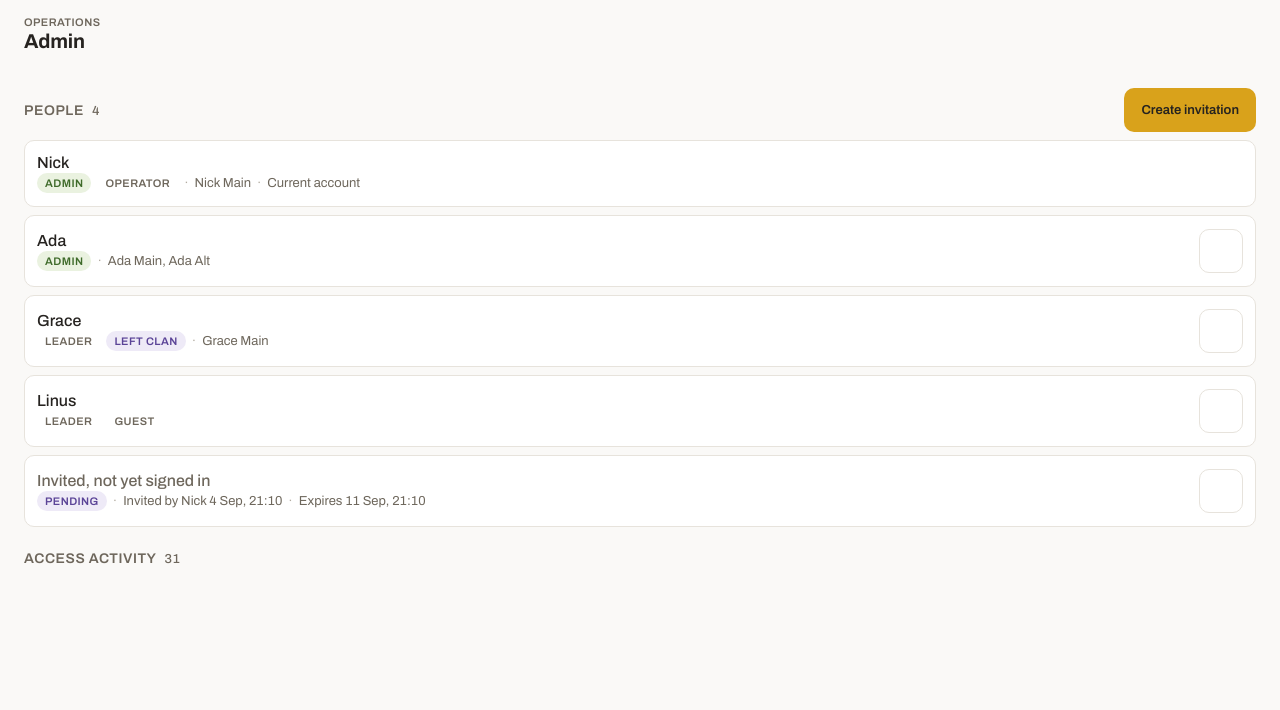
Test: AdminPage › lists a pending invitation as a People row with its actions behind the row menu, and not a redeemed one
Expected: the text "Invited, not yet signed in" is shown, [37,472,210,488]
Expected: the text "Expires 11 Sep, 21:10" is shown, [37,490,426,510]
Click the button named "Actions for pending invitation": point(1221, 491) [1199,469,1243,513]
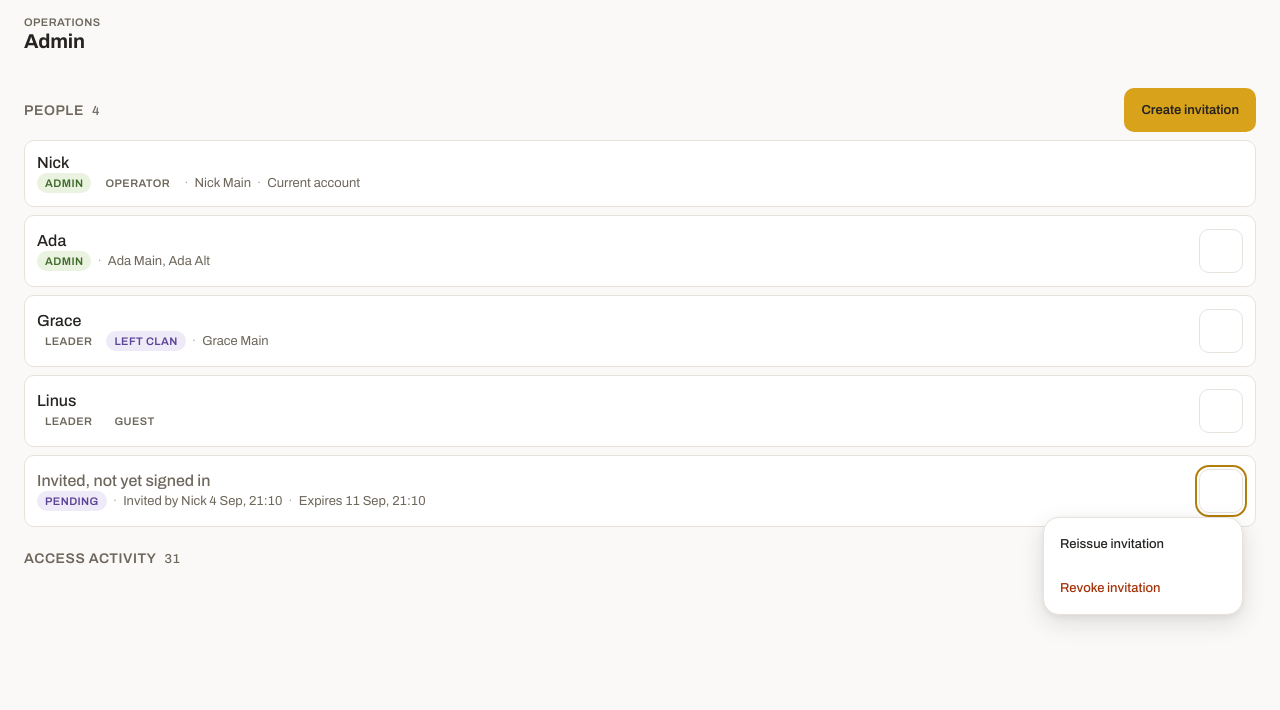
Click the menu item "Reissue invitation": point(1143, 544) [1048,522,1238,566]
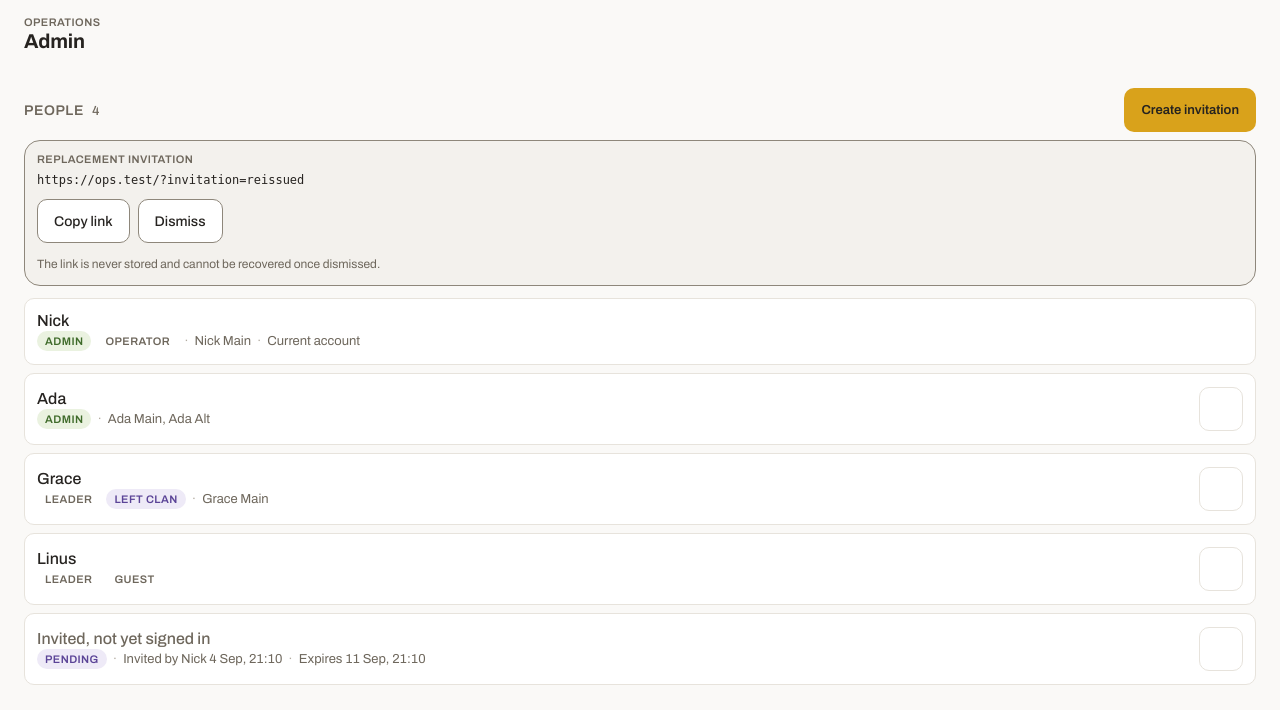
Now the text "https://ops.test/?invitation=reissued" is shown, box [37,173,304,187]
